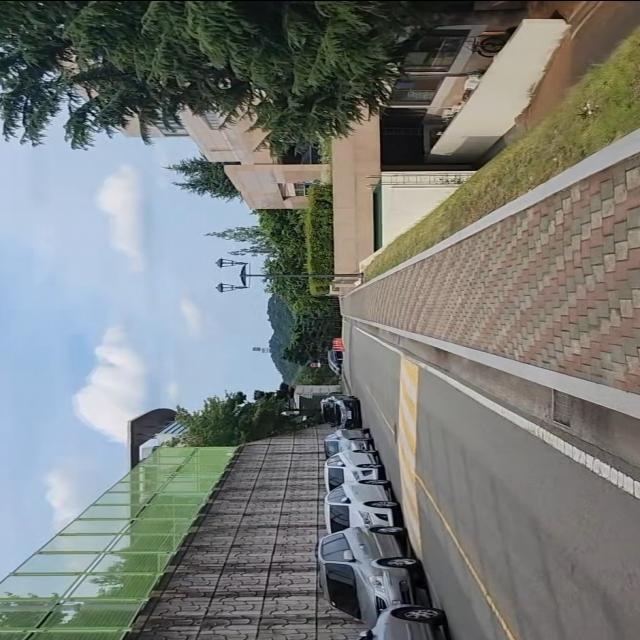obstacle: (323, 418, 457, 640)
road: (344, 318, 640, 640)
sidewalk: (337, 129, 640, 416)
